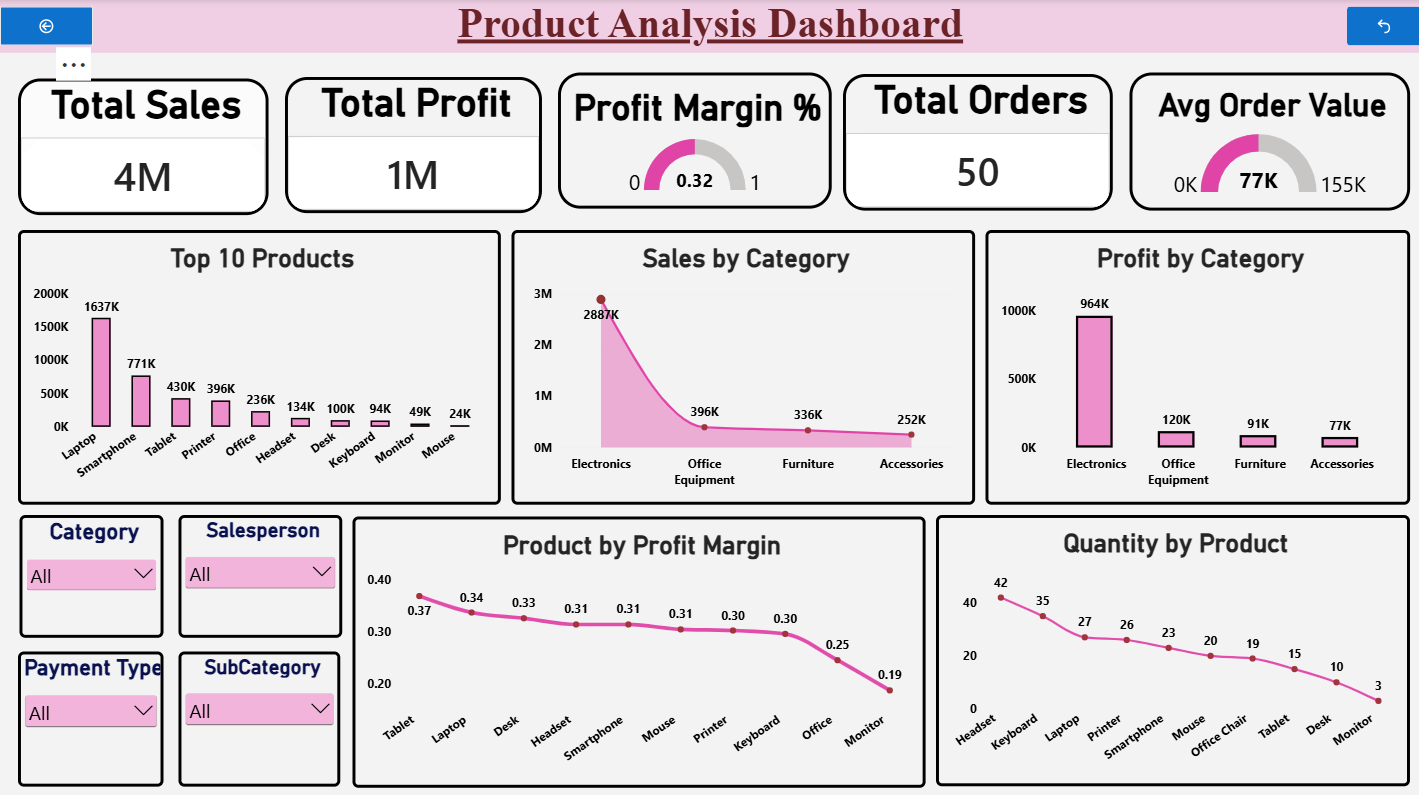

Layout of this report page (visuals, bound fields, positions):
{"tool":"powerbi","page":{"name":"Product Analysis","canvas":[1920,1080],"ordinal":1},"visuals":[{"type":"textbox","box":[0,0,1920.1,73],"z":0},{"type":"lineStackedColumnComboChart","title":"Top 10 Products","fields":{"Category":["DimProduct.ProductName"],"Y":["FactSales.Total Sales"]},"box":[24.3,312.2,652.9,371],"z":1000},{"type":"areaChart","title":"Sales by Category","fields":{"Category":["DimProduct.Category"],"Y":["FactSales.Total Sales"]},"box":[691.4,312.2,626.5,371],"z":2000},{"type":"columnChart","title":"Profit by Category","fields":{"Category":["DimProduct.Category"],"Y":["FactSales.Total Profit"]},"box":[1332.1,312.2,573.8,371],"z":3000},{"type":"lineChart","title":"Product by Profit Margin","fields":{"Category":["DimProduct.ProductName"],"Y":["FactSales.Profit Margin %"]},"box":[476.5,699.5,774.5,367],"z":4000},{"type":"lineChart","title":"Quantity by Product","fields":{"Category":["FactSales.Product"],"Y":["Sum(FactSales.Quantity)"]},"box":[1265.2,697.5,640.7,367],"z":5000},{"type":"gauge","title":"Avg Order Value","fields":{"Y":["FactSales.Average Order Value"]},"box":[1526.8,99.4,379.2,186.5],"z":6000},{"type":"gauge","title":"Profit Margin %","fields":{"Y":["FactSales.Profit Margin %"]},"box":[754.3,99.4,369.9,183.8],"z":7000},{"type":"cardVisual","title":"  Total Sales","fields":{"Data":["FactSales.Total Sales"]},"box":[25,106.8,338.6,184.5],"z":8000},{"type":"cardVisual","title":"  Total Profit","fields":{"Data":["FactSales.Total Profit"]},"box":[386.1,104.5,347.5,184],"z":9000},{"type":"cardVisual","title":"  Total Orders","fields":{"Data":["FactSales.Total Orders"]},"box":[1139.5,101.4,365,184.5],"z":10000},{"type":"actionButton","box":[1820.8,10.1,99.4,52.7],"z":15000},{"type":"actionButton","box":[0,10.1,125.7,52.7],"z":16000},{"type":"slicer","title":"Payment Type","fields":{"Values":["FactSales.PaymentMethod"]},"box":[24.3,882,196.7,182.5],"z":17000},{"type":"slicer","title":"Salesperson","fields":{"Values":["DimSalesperson.SalespersonName"]},"box":[241.3,697.5,221,166.3],"z":18000},{"type":"slicer","title":"SubCategory","fields":{"Values":["DimProduct.SubCategory"]},"box":[241.3,882,219,182.5],"z":19000},{"type":"slicer","title":"Category","fields":{"Values":["DimProduct.Category"]},"box":[26.4,697.5,194.6,166.3],"z":20000}]}

Visuals, with their boxes in screenshot pixels (x1, y1, x2, y2), scaled from the page's 1920x1080 canvas onto the 1419x795 screenshot:
textbox: bbox=[0, 0, 1418, 54]
"Top 10 Products" lineStackedColumnComboChart: bbox=[18, 230, 500, 503]
"Sales by Category" areaChart: bbox=[511, 230, 974, 503]
"Profit by Category" columnChart: bbox=[985, 230, 1409, 503]
"Product by Profit Margin" lineChart: bbox=[352, 515, 925, 785]
"Quantity by Product" lineChart: bbox=[935, 513, 1409, 784]
"Avg Order Value" gauge: bbox=[1128, 73, 1409, 210]
"Profit Margin %" gauge: bbox=[557, 73, 831, 208]
"  Total Sales" cardVisual: bbox=[18, 79, 269, 214]
"  Total Profit" cardVisual: bbox=[285, 77, 542, 212]
"  Total Orders" cardVisual: bbox=[842, 75, 1112, 210]
actionButton: bbox=[1346, 7, 1418, 46]
actionButton: bbox=[0, 7, 93, 46]
"Payment Type" slicer: bbox=[18, 649, 163, 784]
"Salesperson" slicer: bbox=[178, 513, 342, 636]
"SubCategory" slicer: bbox=[178, 649, 340, 784]
"Category" slicer: bbox=[20, 513, 163, 636]
